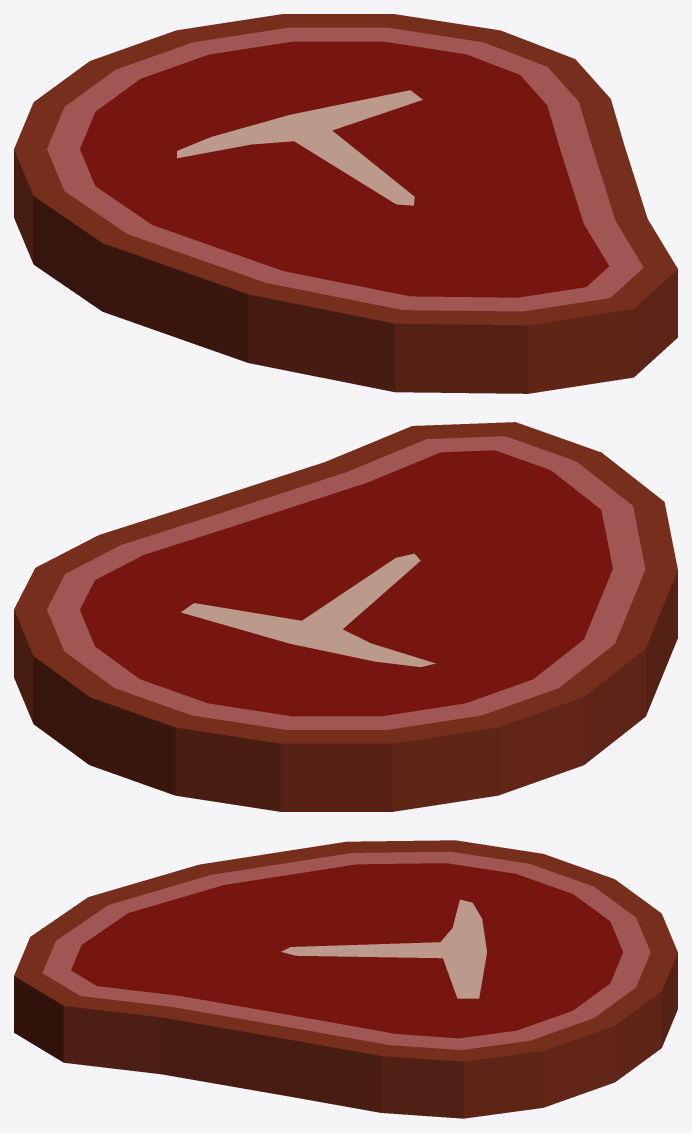
File: Steak_Model.FBX
3 views of the same model, one above another, from view 1: azimuth 30°, elevation 25°; view 2: azimuth 150°, elevation 25°; view 3: azimuth 270°, elevation 25° (orthographic). The views are drawn at different scales.
Parts seen in each view (by area): view 1: Steak_Model; view 2: Steak_Model; view 3: Steak_Model.
Part boxes in pixels (x1,y1,x2,y2): Steak_Model: [14, 14, 677, 393]; Steak_Model: [14, 422, 677, 811]; Steak_Model: [14, 840, 677, 1118].
Bounding box in the file's own units: 2873 × 3640 × 344.
